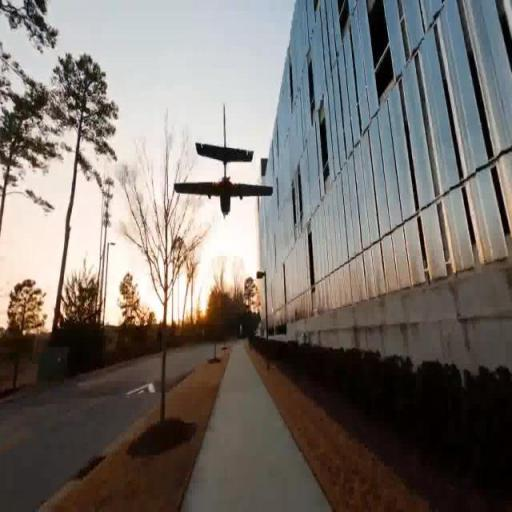uav: (170, 101, 277, 222)
